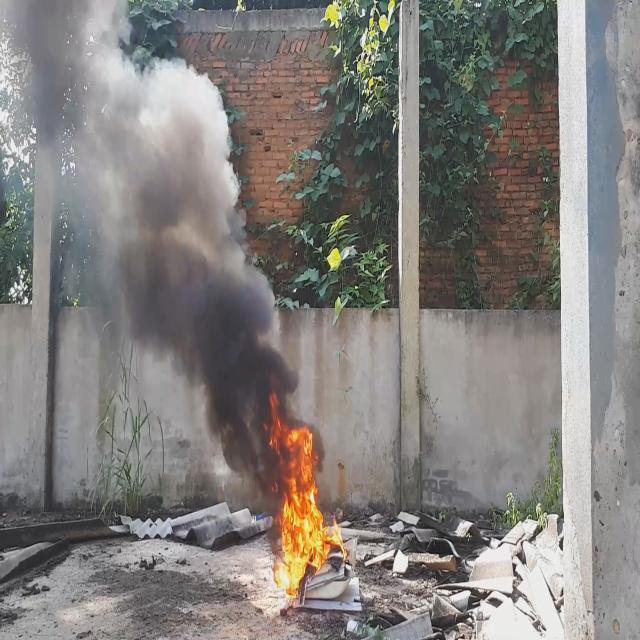Fire: (265, 388, 332, 599)
Smoke: (0, 0, 325, 569)
